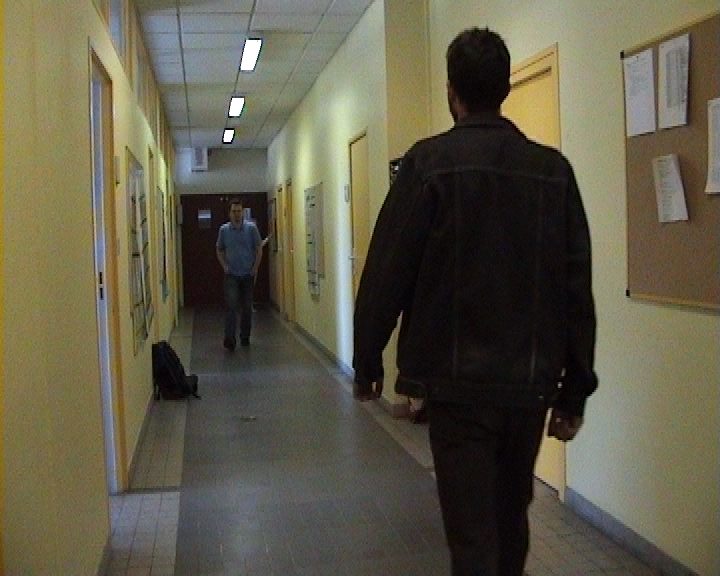leave bag unattended: (135, 321, 213, 418)
